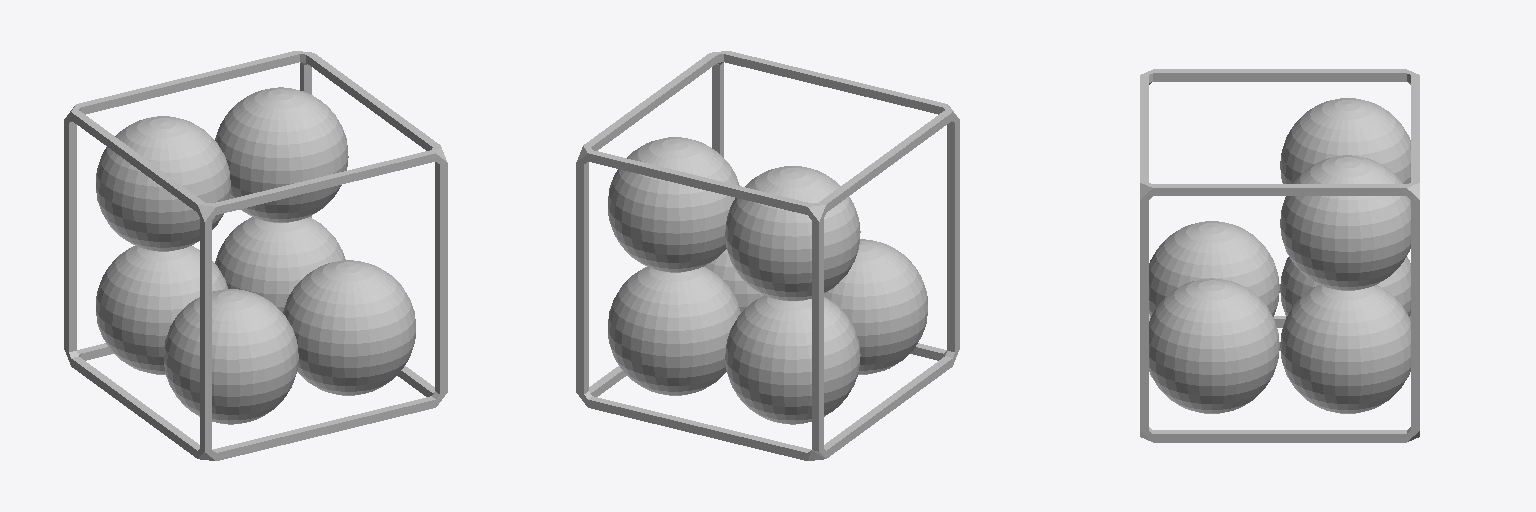
The model's file is stage_5.obj.
3 views of the same model, side by side, from view 1: azimuth 30°, elevation 25°; view 2: azimuth 150°, elevation 25°; view 3: azimuth 270°, elevation 25° (orthographic).
Parts seen in each view (by area): view 1: Cube_Cube.002, Sphere.005_Sphere.007, Sphere.004_Sphere.006, Sphere.003_Sphere.004, Sphere.002_Sphere.003, Sphere, Sphere.001; view 2: Cube_Cube.002, Sphere.001, Sphere, Sphere.003_Sphere.004, Sphere.002_Sphere.003, Sphere.004_Sphere.006, Sphere.005_Sphere.007; view 3: Cube_Cube.002, Sphere.005_Sphere.007, Sphere.001, Sphere.003_Sphere.004, Sphere.004_Sphere.006, Sphere.002_Sphere.003, Sphere.
Part boxes in pixels (x1,y1,x2,y2): Cube_Cube.002: (64, 51, 447, 460); Sphere.005_Sphere.007: (283, 260, 415, 395); Sphere.004_Sphere.006: (163, 289, 298, 424); Sphere.003_Sphere.004: (215, 87, 348, 222); Sphere.002_Sphere.003: (96, 116, 230, 251); Sphere: (96, 246, 227, 374); Sphere.001: (215, 217, 345, 312); Cube_Cube.002: (576, 51, 959, 460); Sphere.001: (608, 267, 740, 395); Sphere: (725, 295, 860, 424); Sphere.003_Sphere.004: (608, 137, 739, 272); Sphere.002_Sphere.003: (725, 166, 860, 300); Sphere.004_Sphere.006: (824, 239, 927, 374); Sphere.005_Sphere.007: (704, 249, 763, 312); Cube_Cube.002: (1140, 69, 1419, 442); Sphere.005_Sphere.007: (1149, 278, 1279, 413); Sphere.001: (1280, 285, 1410, 413); Sphere.003_Sphere.004: (1280, 155, 1410, 290); Sphere.004_Sphere.006: (1149, 221, 1279, 316); Sphere.002_Sphere.003: (1280, 98, 1410, 183); Sphere: (1280, 257, 1410, 316).
Size of the model in its own units: 1.03 by 1.03 by 1.03.